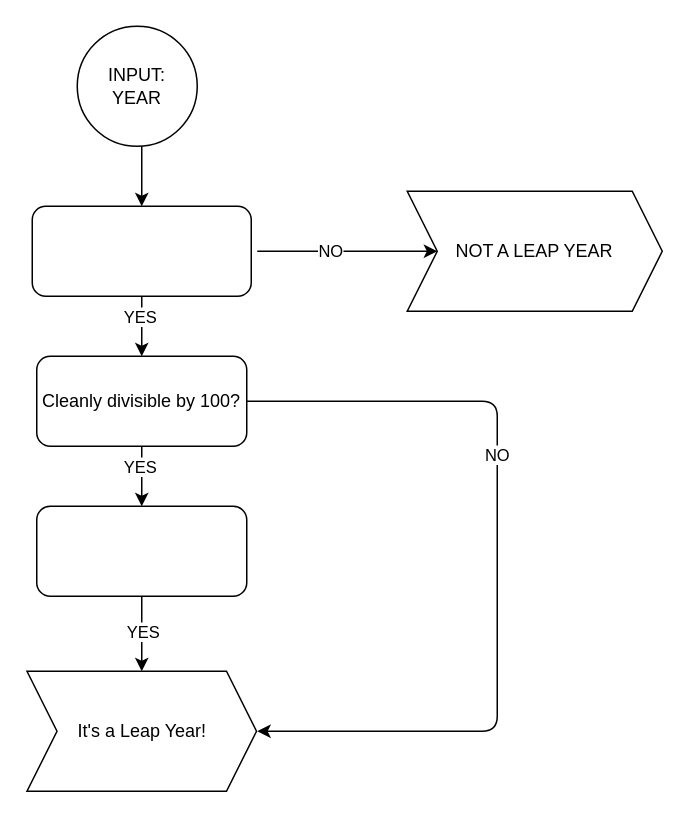
Some shapes in this 689 by 818 pixel diagram are drawn without their labels. The shapes that lost their labels are listed below. From the top down, each one's centre as x and y in pixels, then its label:
(141,250): Cleanly divisible by 4?
(141,550): AND Cleanly divisible by 400?
